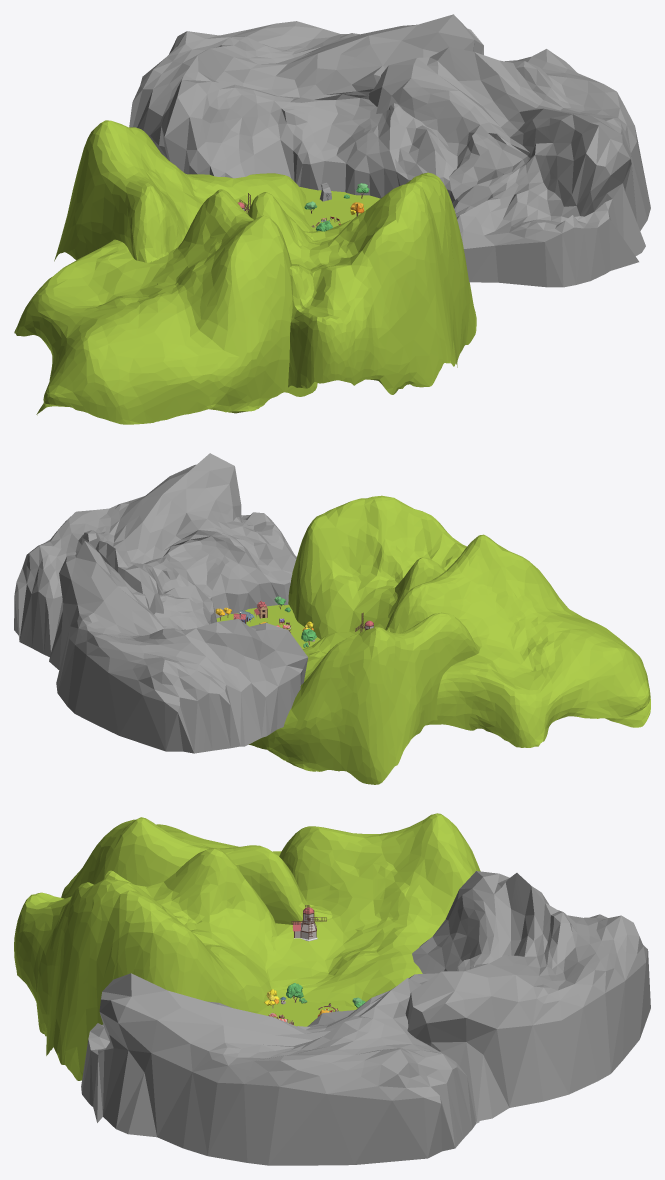
The model's file is village.glb.
3 renders of one model, top to bottom at view 1: azimuth 30°, elevation 25°; view 2: azimuth 150°, elevation 25°; view 3: azimuth 270°, elevation 25°, orthographic. The views are drawn at different scales.
Visible parts, largest first — view 1: hill_001 (3); view 2: hill_001 (3); view 3: hill_001 (3).
Part boxes in pixels (box(x1,y1,x2,y2)): hill_001 (3): box(14, 14, 650, 424); hill_001 (3): box(14, 453, 650, 784); hill_001 (3): box(14, 813, 650, 1165).
Bounding box in the file's own units: 565 × 155 × 456.
2 materials, 1 textured.
